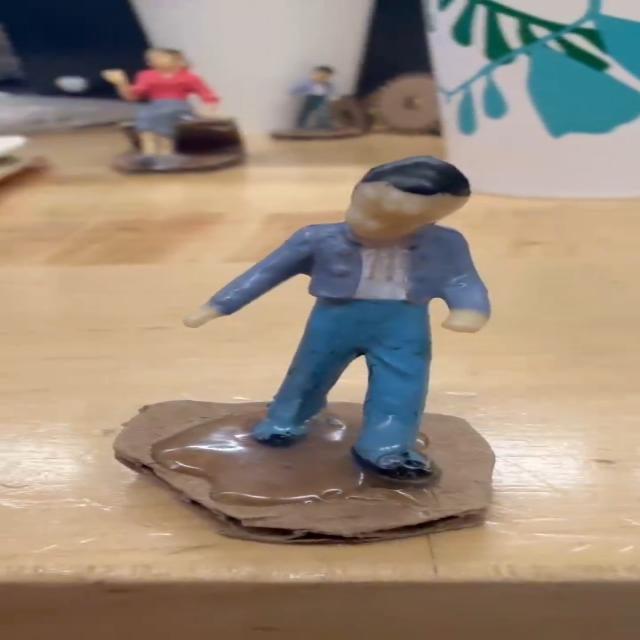Authorized: (169, 160, 495, 492)
